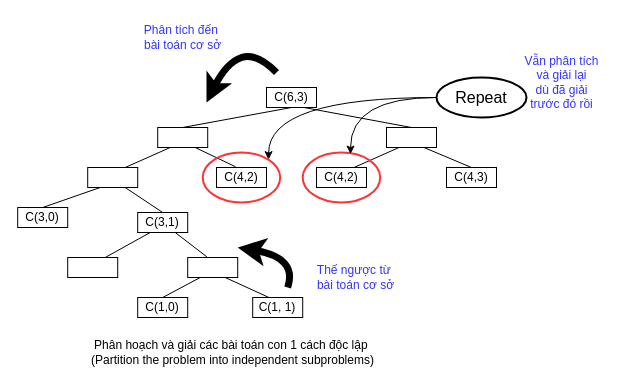
Some shapes in this 624 by 389 pixel diagram are drawn without their labels. Each missing label, with the centre of its shape:
"C(2,0)" goes at point (92, 267).
"C(2,1)" goes at point (212, 267).
"C(4,1)" goes at point (112, 177).
"C(5,2)" goes at point (182, 137).
"C(5,3)" goes at point (411, 137).
